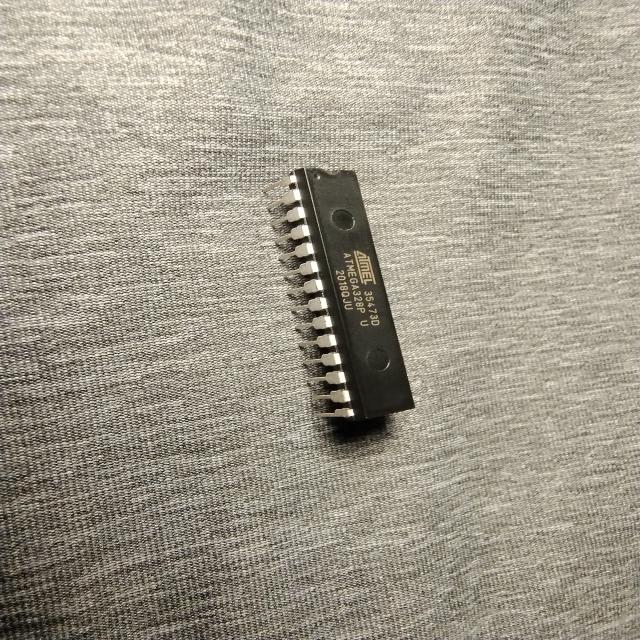atmega: (260, 166, 418, 424)
